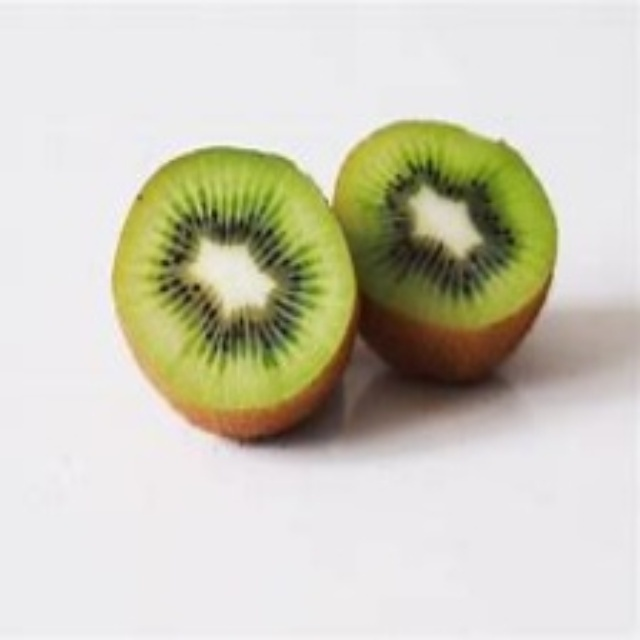kiwi: (109, 145, 362, 450), (325, 111, 561, 393)
